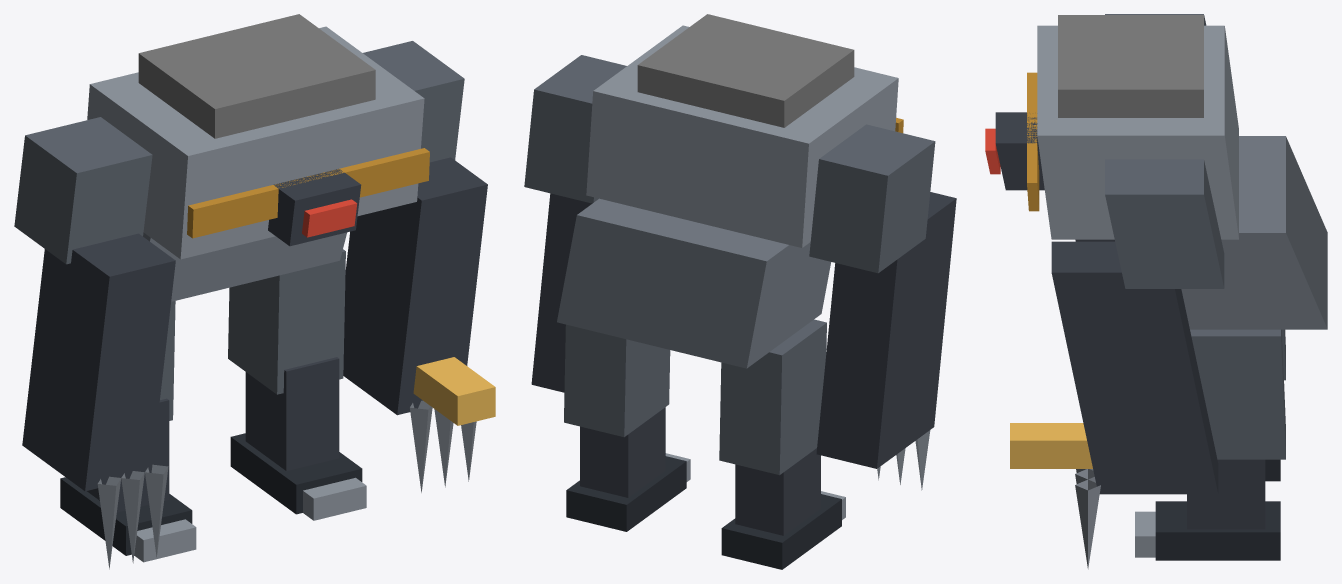
Rendered from wrecker-attack-0.obj.
3 views of the same model, side by side, from view 1: azimuth 30°, elevation 25°; view 2: azimuth 150°, elevation 25°; view 3: azimuth 270°, elevation 25° (orthographic). The views are drawn at different scales.
Visible parts, largest first — view 1: wrecker-attack-0; view 2: wrecker-attack-0; view 3: wrecker-attack-0.
Part boxes in pixels (x1,y1,x2,y2): wrecker-attack-0: (14,14,495,569); wrecker-attack-0: (524,14,956,569); wrecker-attack-0: (985,14,1327,569).
Bounding box in the file's own units: 1.67 × 1.92 × 1.32.
